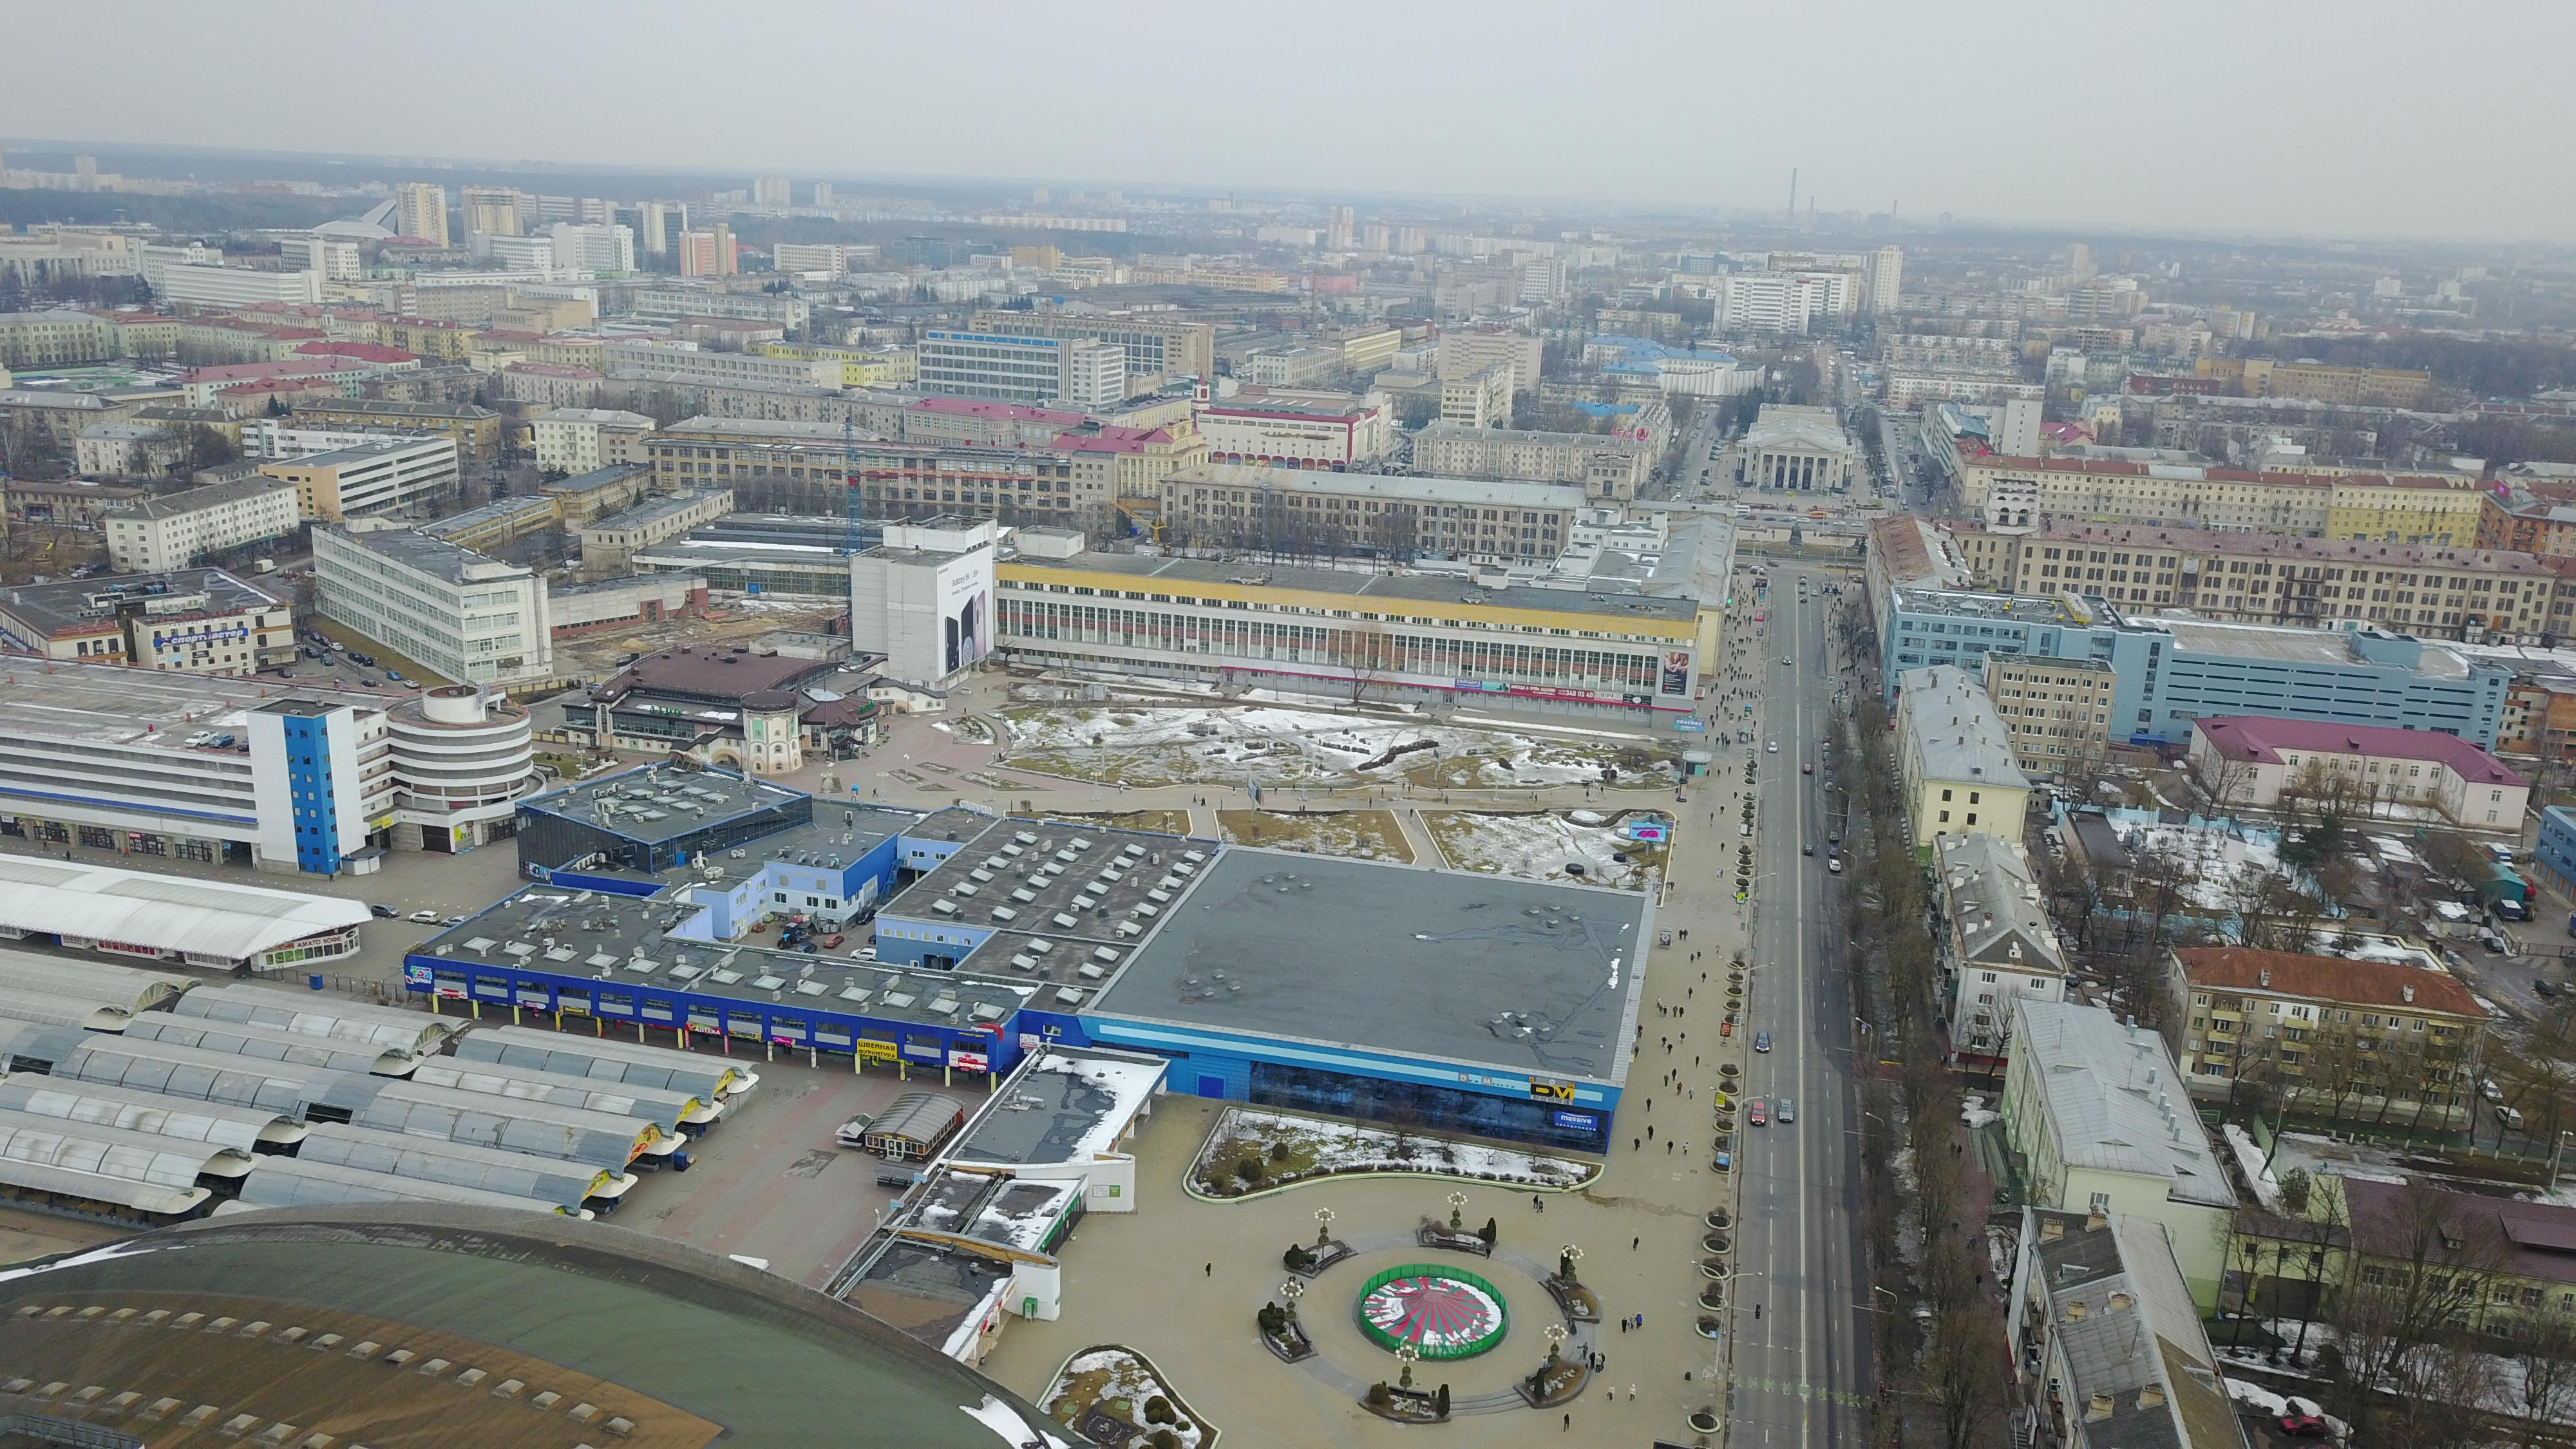car: (1776, 1097, 1796, 1123), (1750, 1100, 1767, 1125), (1755, 1030, 1771, 1053)
